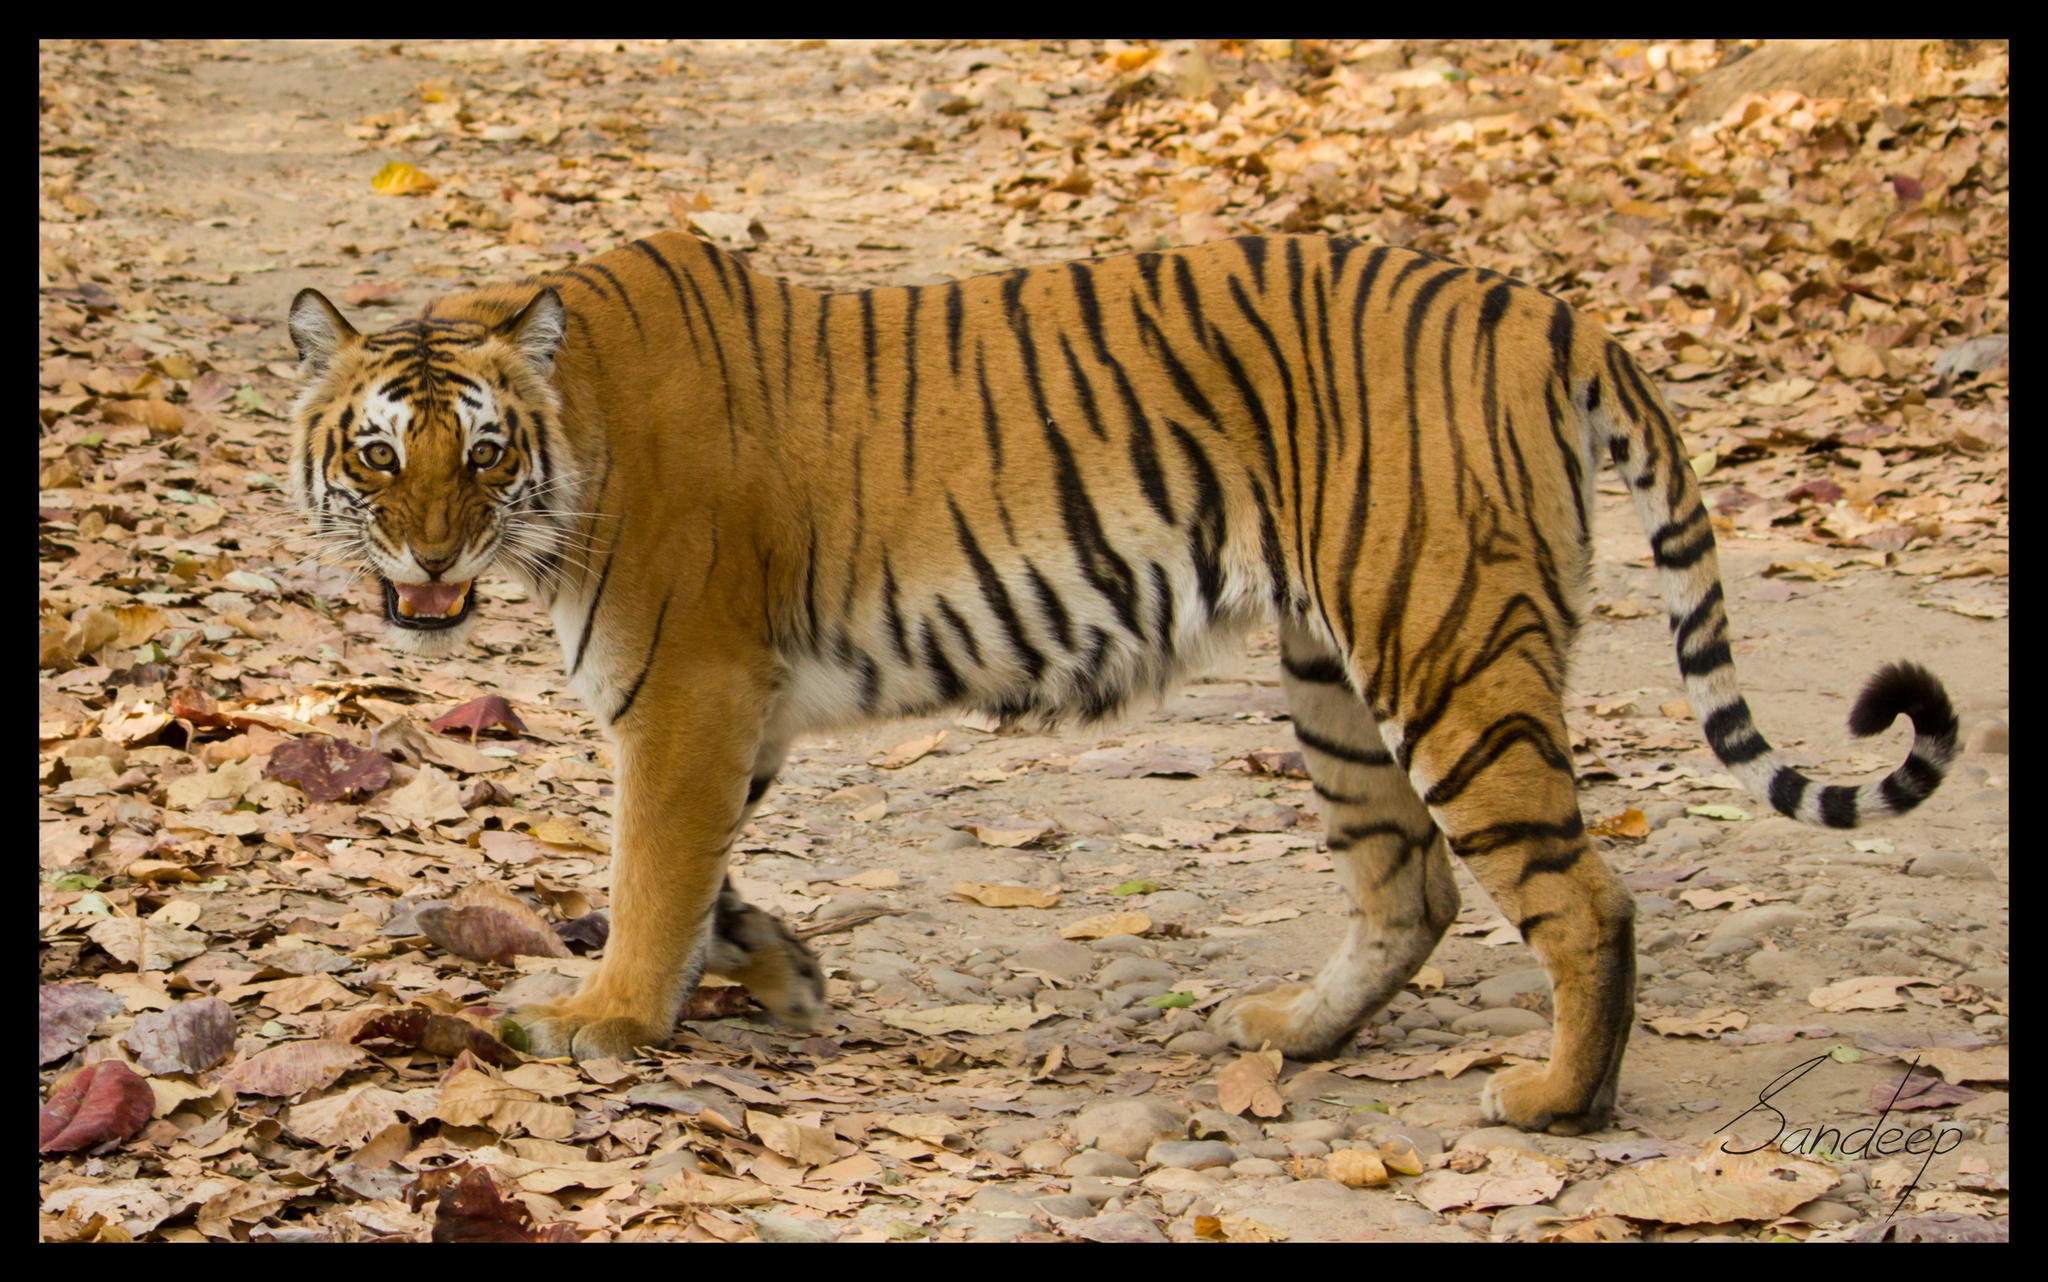tiger: (247, 230, 1965, 1155)
